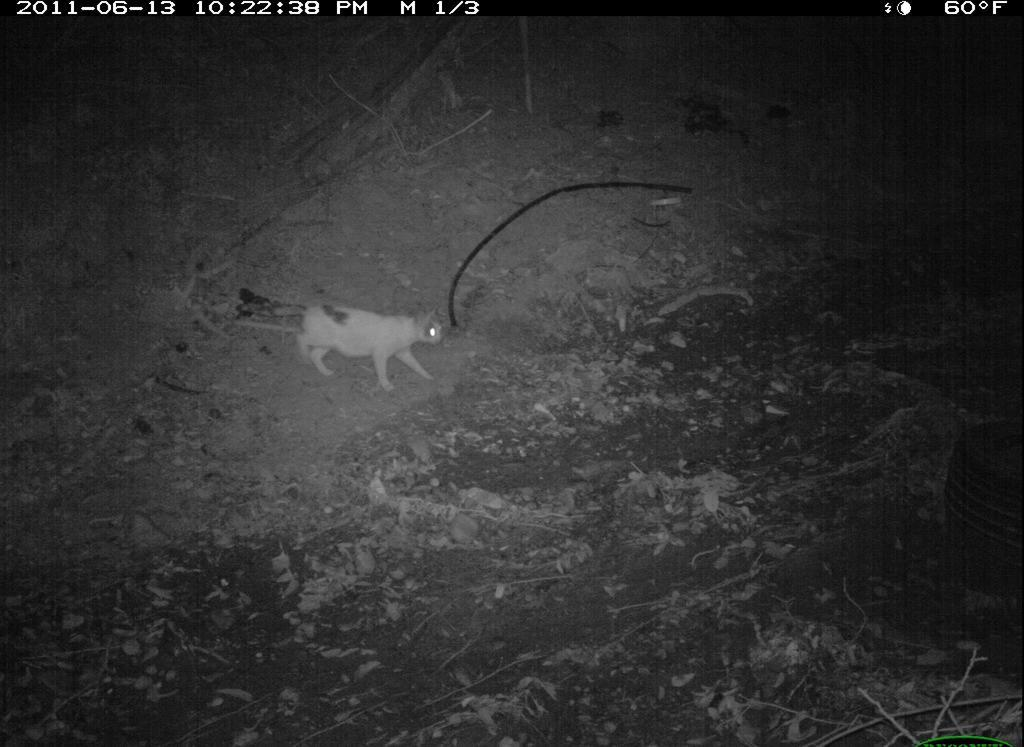cat: (244, 281, 443, 396)
